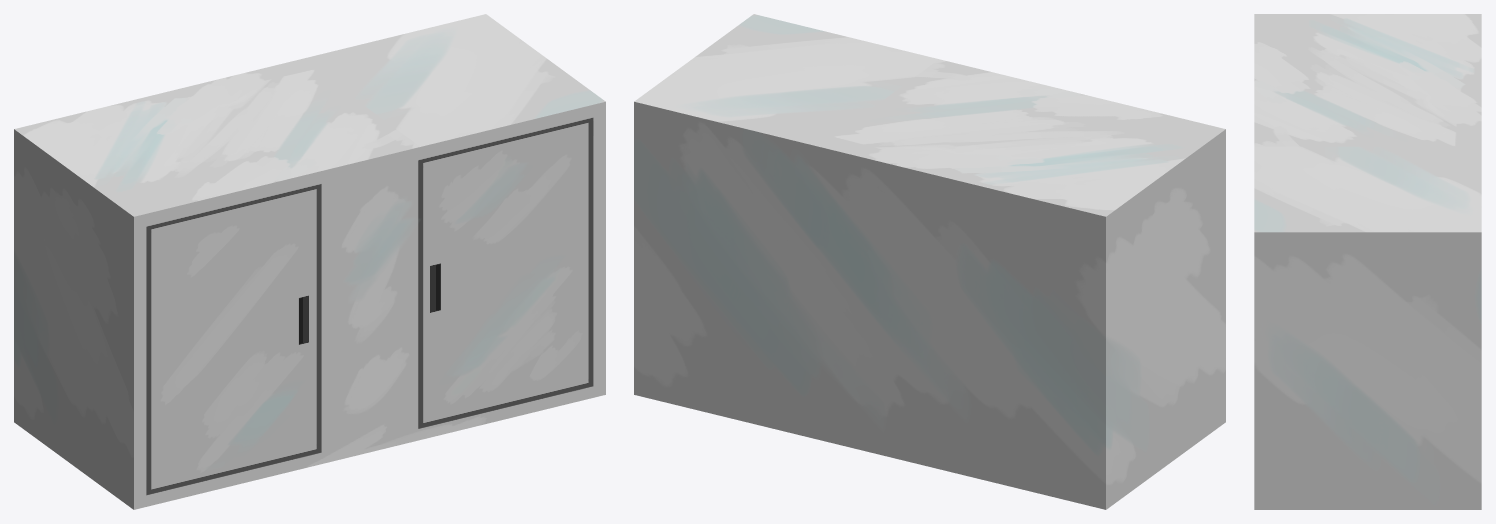
Rendered from Prop_Countertop.glb.
The picture shows the model from 3 angles, left to right: view 1: azimuth 30°, elevation 25°; view 2: azimuth 150°, elevation 25°; view 3: azimuth 270°, elevation 25°; orthographic projection. The views are drawn at different scales.
Parts seen in each view (by area): view 1: Prop_Countertop; view 2: Prop_Countertop; view 3: Prop_Countertop.
Boxes of the visible parts, box(x1,y1,x2,y2) form: Prop_Countertop: box(14, 14, 605, 509); Prop_Countertop: box(634, 14, 1225, 509); Prop_Countertop: box(1254, 14, 1481, 509).
Size of the model in its own units: 1.82 by 1.08 by 0.8.
Materials: 1 (1 with a texture image).
